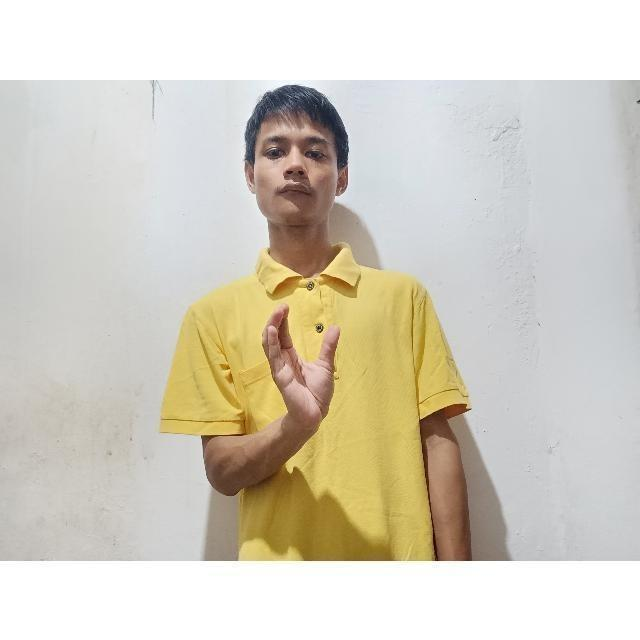U: (260, 293, 344, 412)
